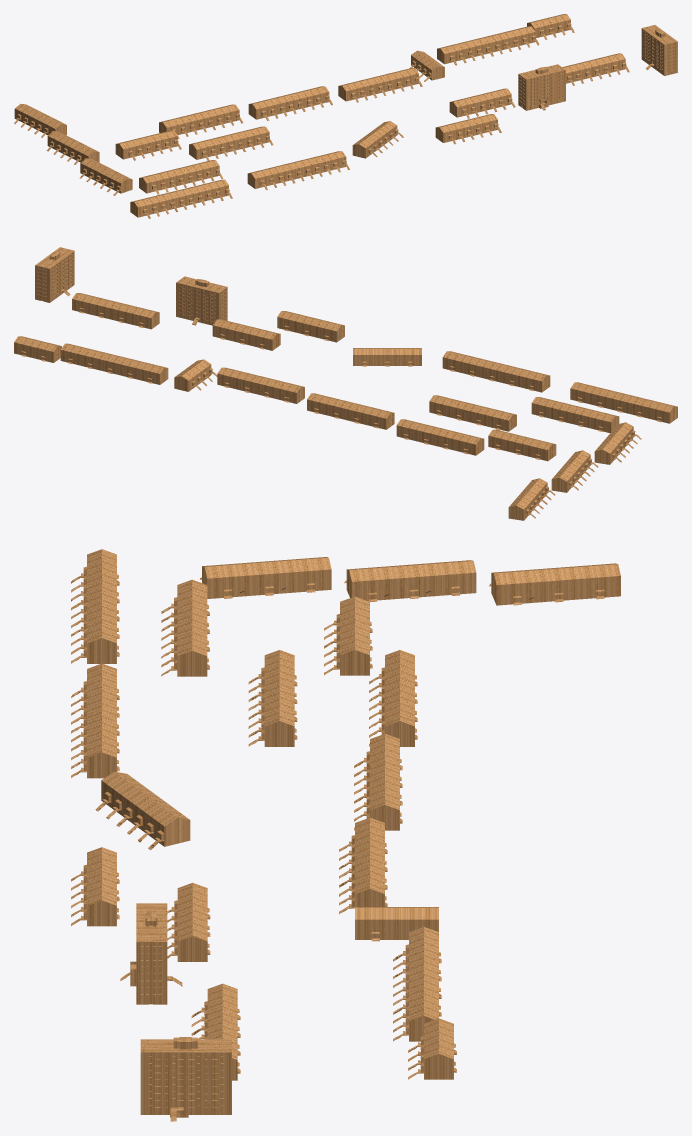
The model's file is Park.FBX.
3 renders of one model, top to bottom at view 1: azimuth 30°, elevation 25°; view 2: azimuth 150°, elevation 25°; view 3: azimuth 270°, elevation 25°, orthographic. The views are drawn at different scales.
Parts seen in each view (by area): view 1: Model; view 2: Model; view 3: Model.
Part boxes in pixels (x1,y1,x2,y2): Model: (14, 14, 677, 218); Model: (14, 247, 677, 520); Model: (71, 549, 620, 1121).
Bounding box in the file's own units: 8.52 × 0.5079 × 3.6.
8 materials, 8 textured.
